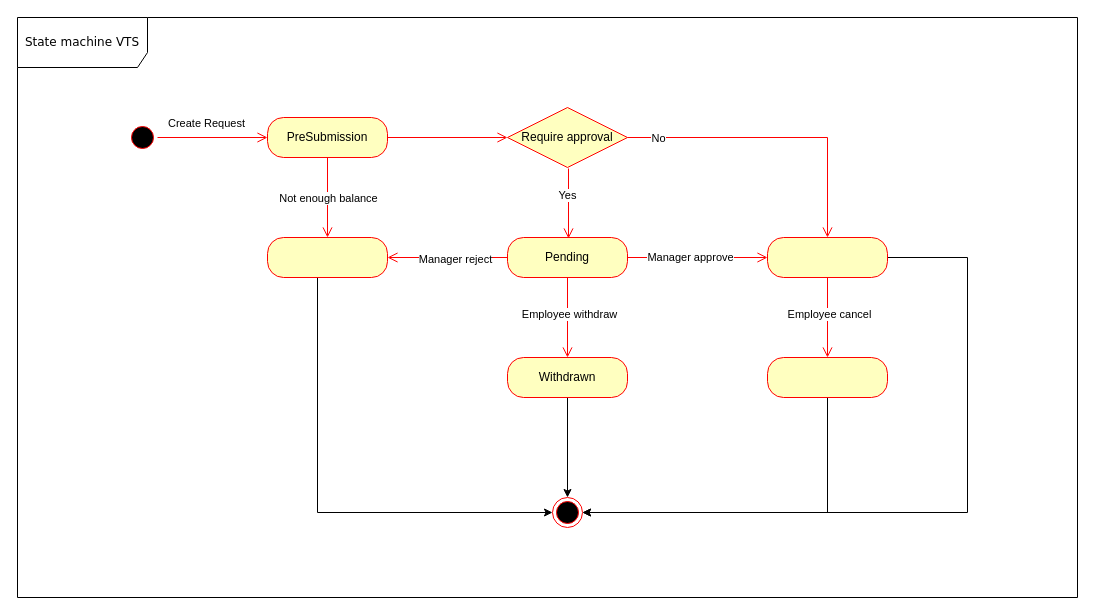
The diagram is 1095 pixels wide and 615 high, and some of its shapes have lost their labels. Here are the shapes that lost their labels. From the top down, the centre of each, then its label:
At point (327, 257): "Rejected".
At point (827, 257): "Approved".
At point (827, 377): "Canceled".
